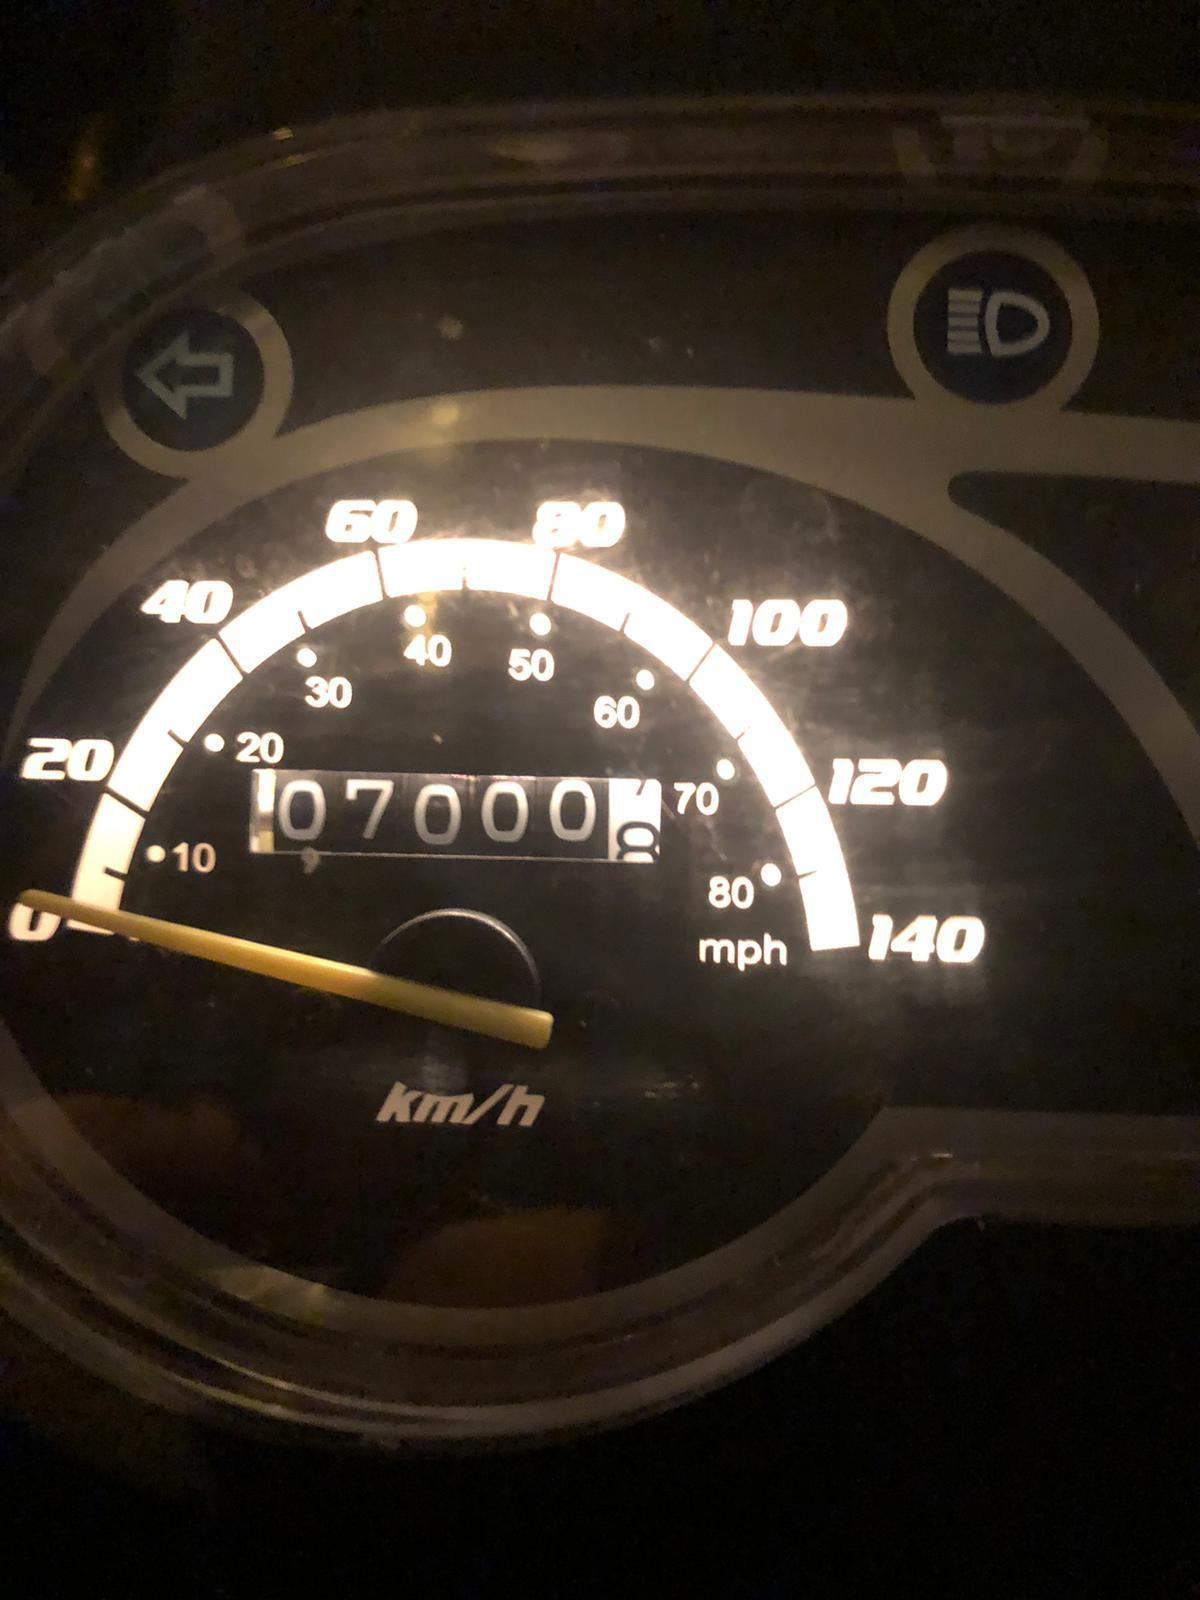0: (482, 775, 533, 857), (274, 776, 332, 845), (543, 775, 599, 847), (408, 784, 463, 850)
7: (343, 771, 395, 849)
8: (610, 813, 663, 879)
odometer: (241, 756, 678, 896)
